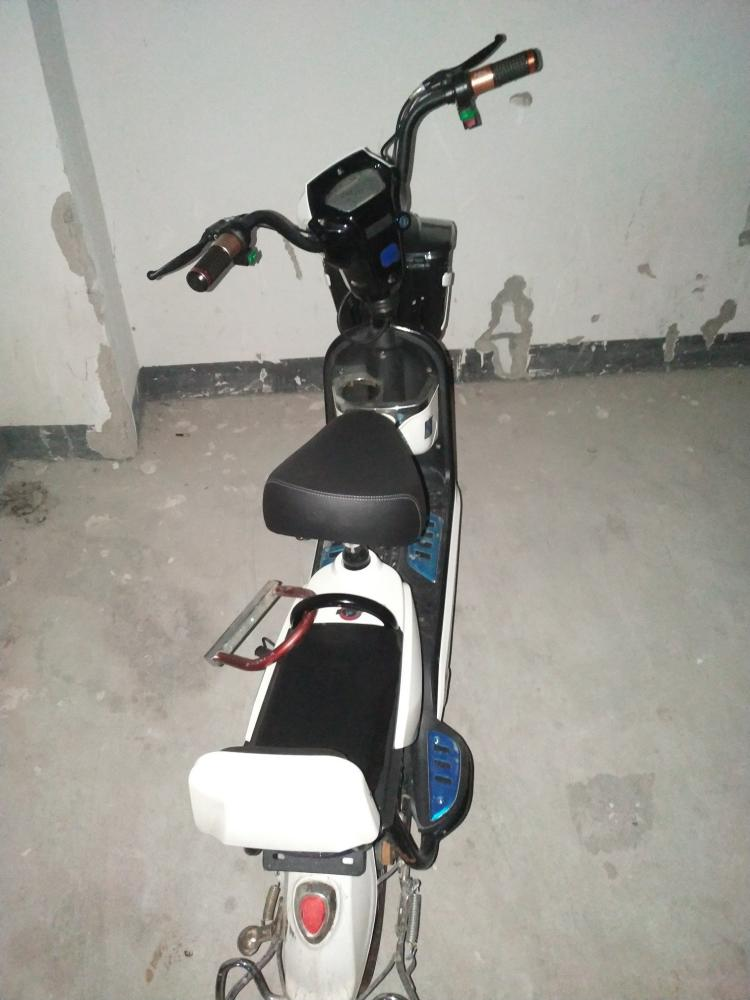电动车: (111, 26, 599, 1000)
